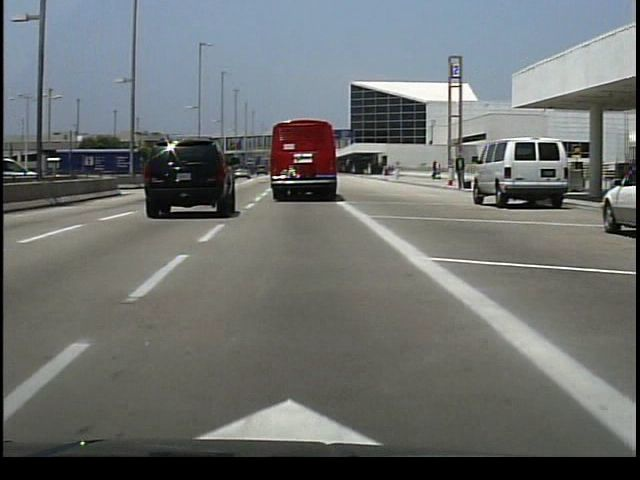person: (453, 153, 467, 195)
